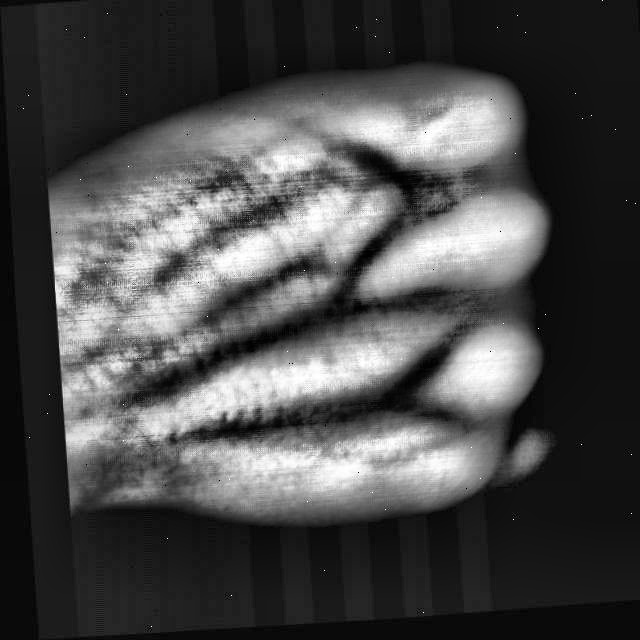Vein: (118, 301, 322, 418), (166, 388, 369, 452)
